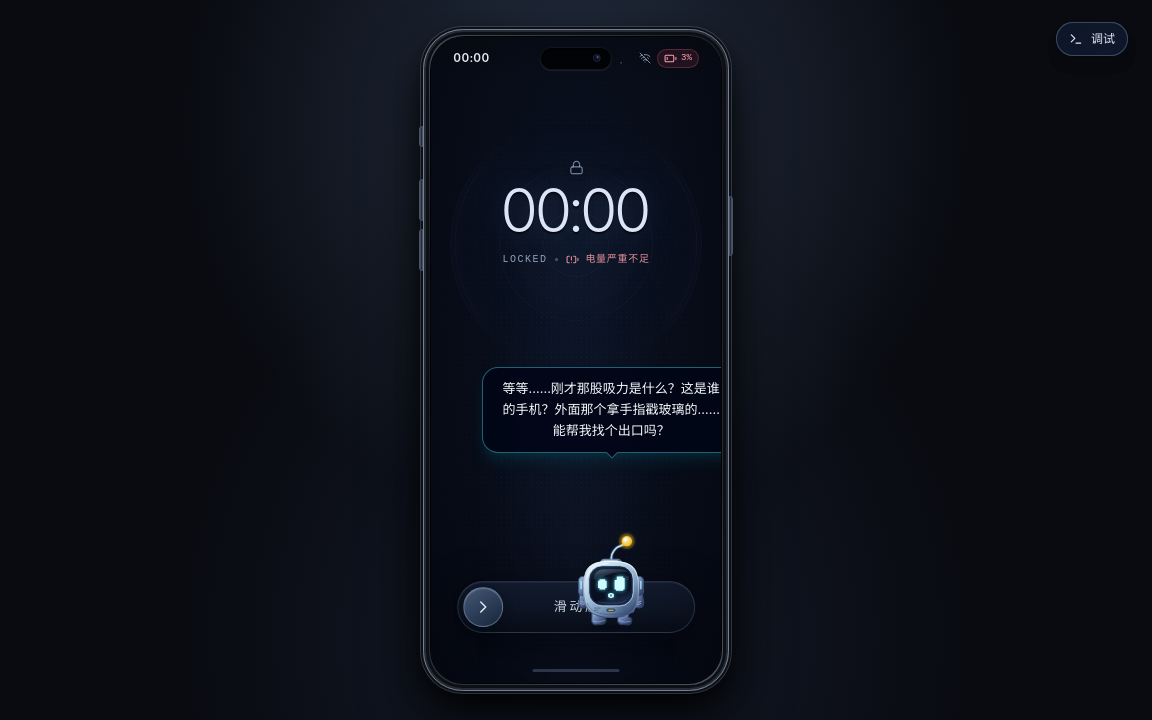
Test case: PhoneOS pet pointer gestures › releases a drag at the last valid coordinates on pointercancel and accepts a new tap
(page scrolled)
Press the mouse on the button with test id "pet-hitbox": (611, 582) [572, 535, 651, 629]
Wait 501 ms
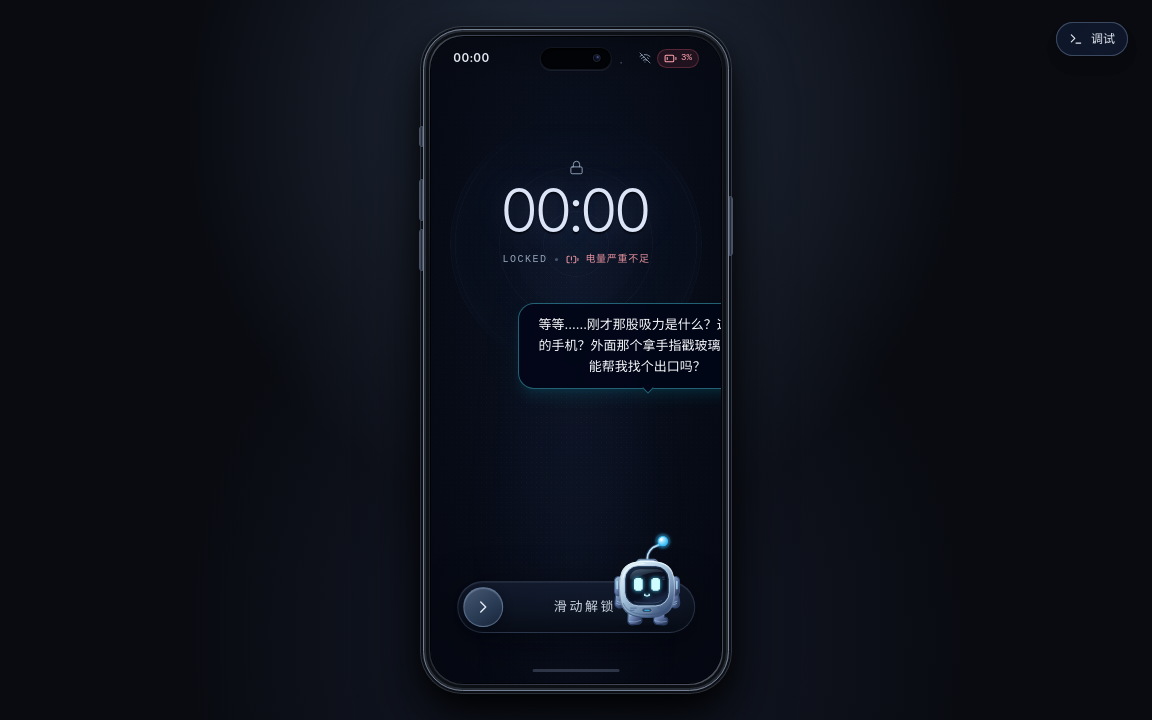
Press the mouse on the button with test id "pet-hitbox": (647, 582) [608, 535, 687, 629]
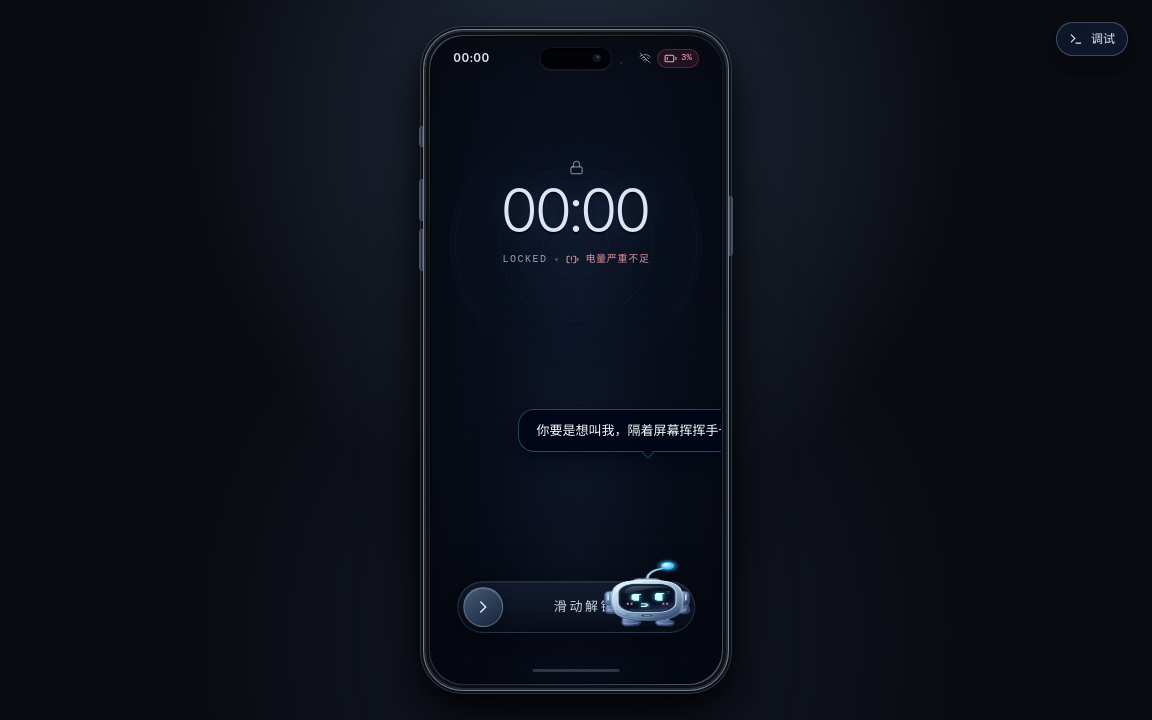
Result: the message with test id "pet-bubble" reads "你要是想叫我，隔着屏幕挥挥手也行。" at [537, 422, 721, 438]
